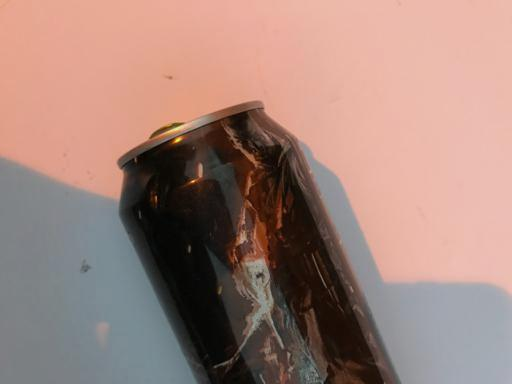glass: (118, 102, 403, 383)
